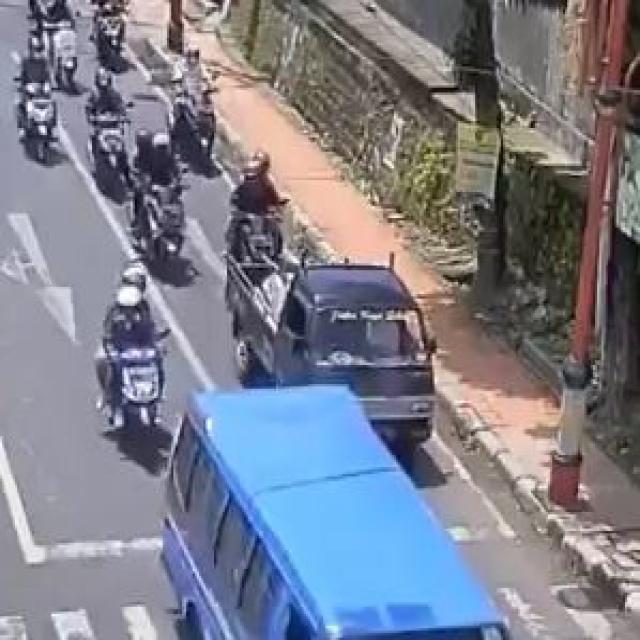car: (164, 384, 518, 640), (220, 257, 440, 447)
motorbike: (94, 266, 174, 445), (135, 115, 194, 273), (180, 46, 244, 157), (232, 142, 292, 259), (4, 31, 54, 159), (78, 60, 119, 192), (93, 0, 139, 61)
